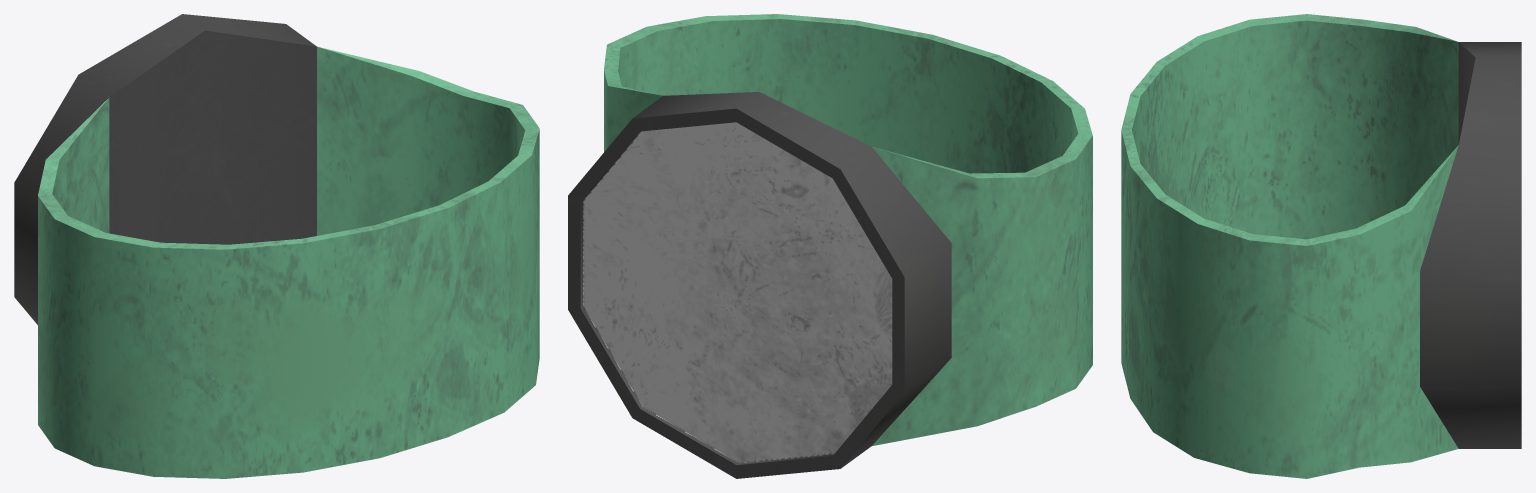
The model's file is Watch.fbx.
3 views of the same model, side by side, from view 1: azimuth 30°, elevation 25°; view 2: azimuth 150°, elevation 25°; view 3: azimuth 270°, elevation 25° (orthographic).
Parts seen in each view (by area): view 1: Watch; view 2: Watch; view 3: Watch.
Boxes of the visible parts, x1,y1,x2,y2 form: Watch: (14, 14, 539, 478); Watch: (568, 14, 1092, 478); Watch: (1121, 14, 1521, 478).
Bounding box in the file's own units: 6.27 × 4.73 × 4.57.
